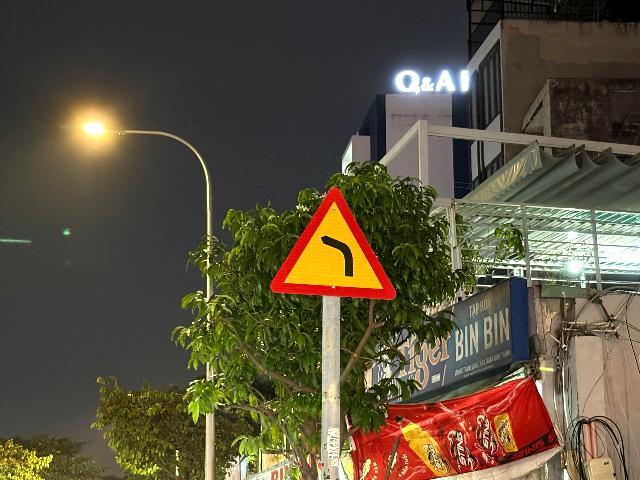cho-ngoat-nguy-hiem-ben-trai: (269, 186, 398, 302)
